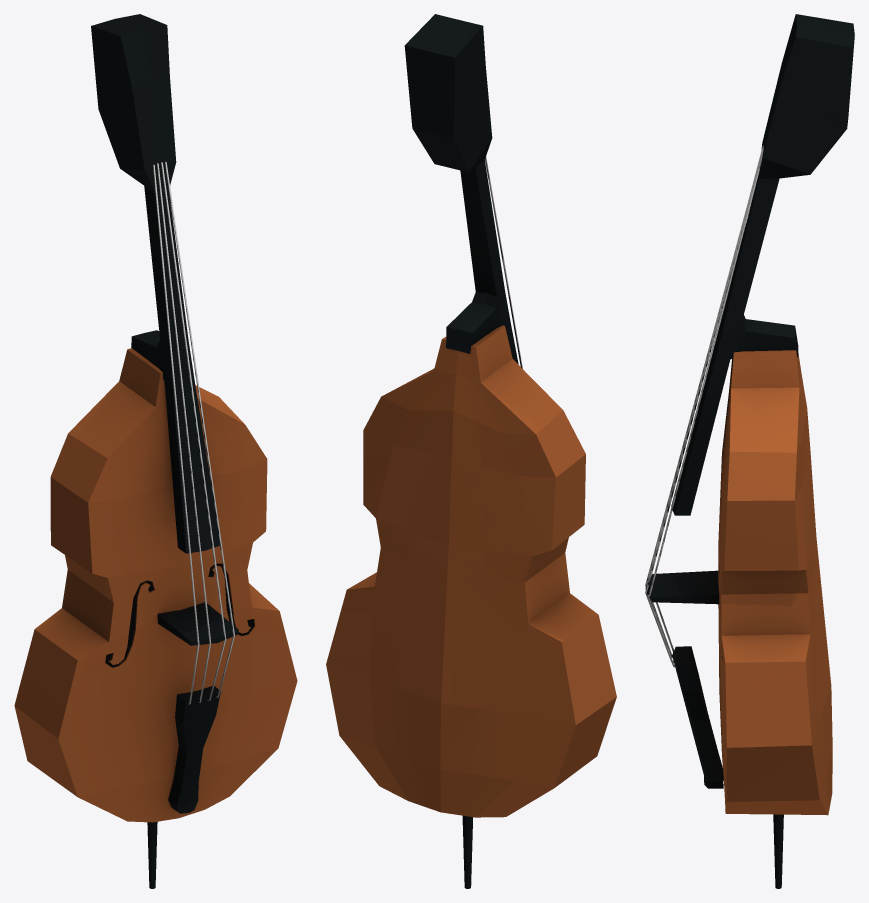
File: bassViolin.fbx
The picture shows the model from 3 angles, left to right: view 1: azimuth 30°, elevation 25°; view 2: azimuth 150°, elevation 25°; view 3: azimuth 270°, elevation 25°; orthographic projection. The views are drawn at different scales.
Visible parts, largest first — view 1: Cube_Hollow; view 2: Cube_Hollow; view 3: Cube_Hollow.
Boxes of the visible parts, left/top/right/bottom form: Cube_Hollow: left=14, top=14, right=297, bottom=888; Cube_Hollow: left=326, top=14, right=616, bottom=888; Cube_Hollow: left=645, top=14, right=854, bottom=888.
Bounding box in the file's own units: 293 × 980 × 216.
